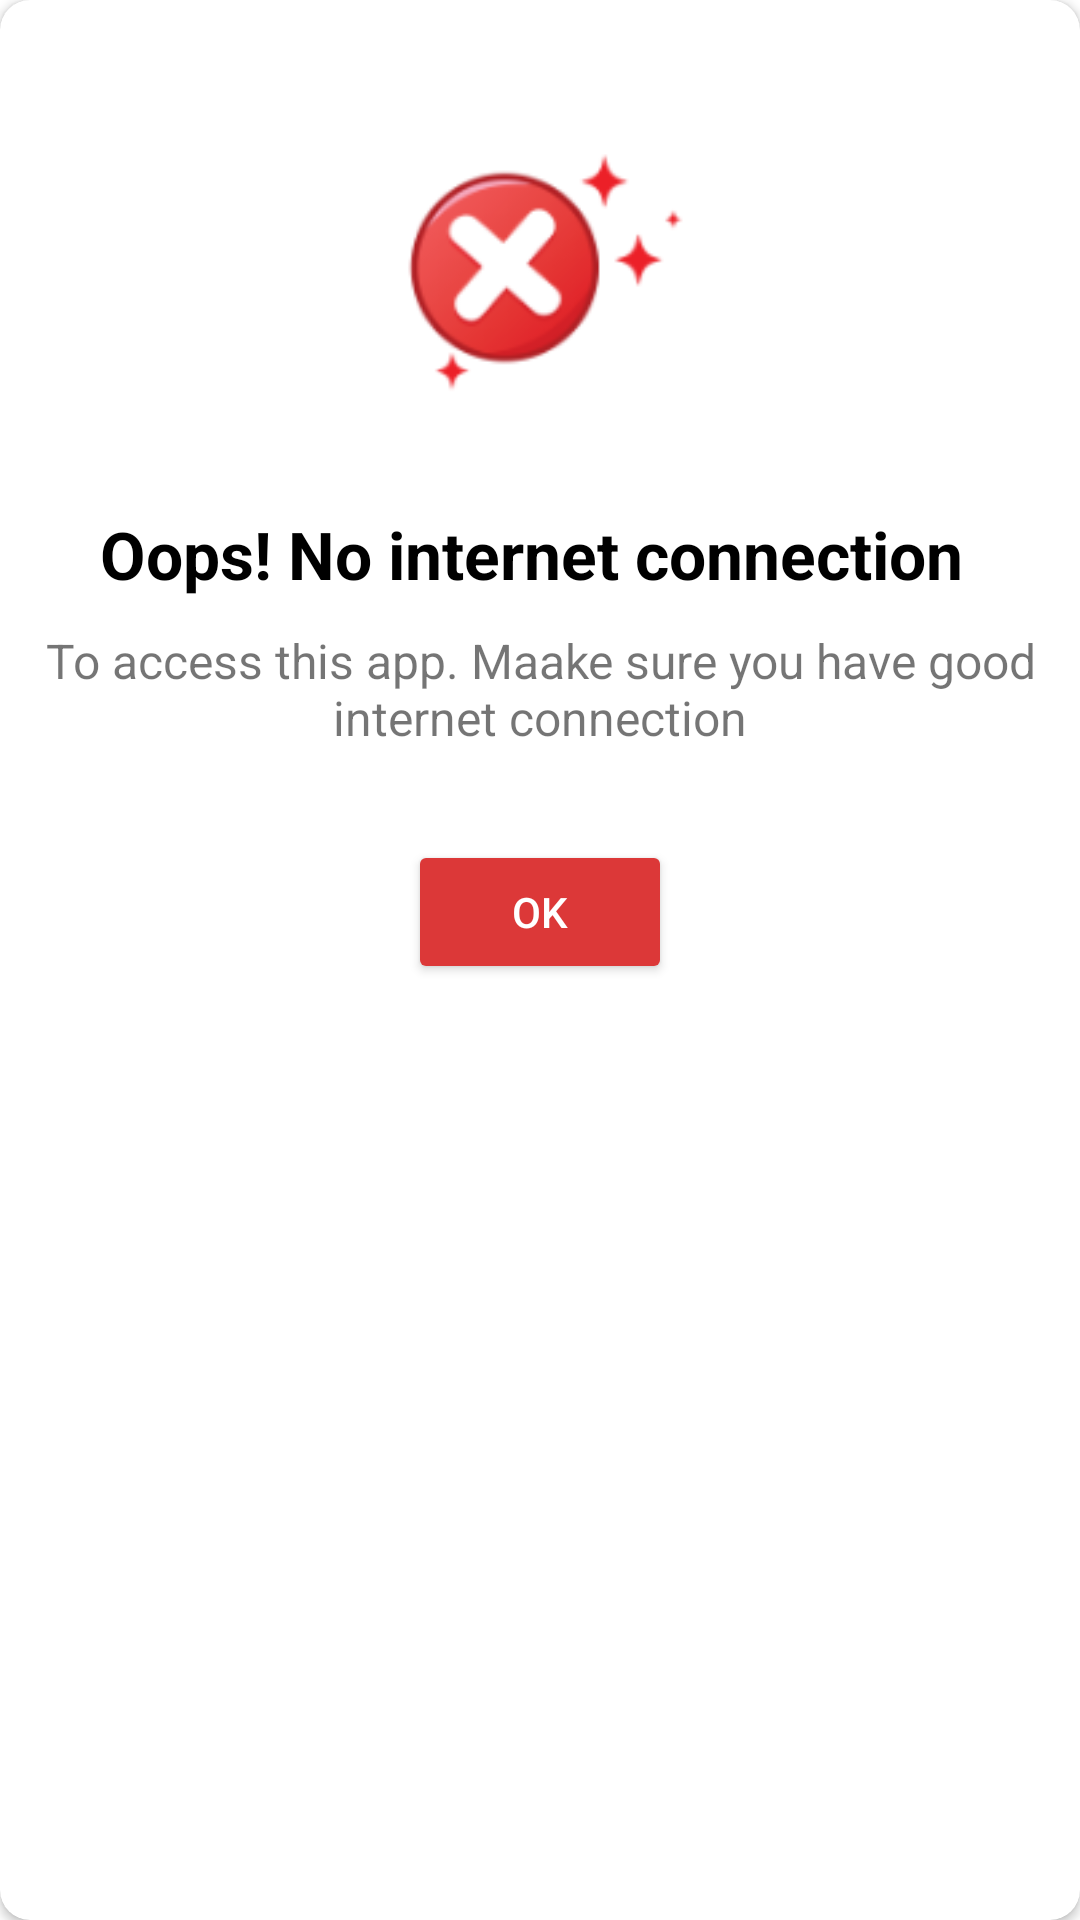

Icons on this 1080*1920 Android screen, each with its box as (x1, y1, x2, y2):
reject: (409, 155, 681, 389)
